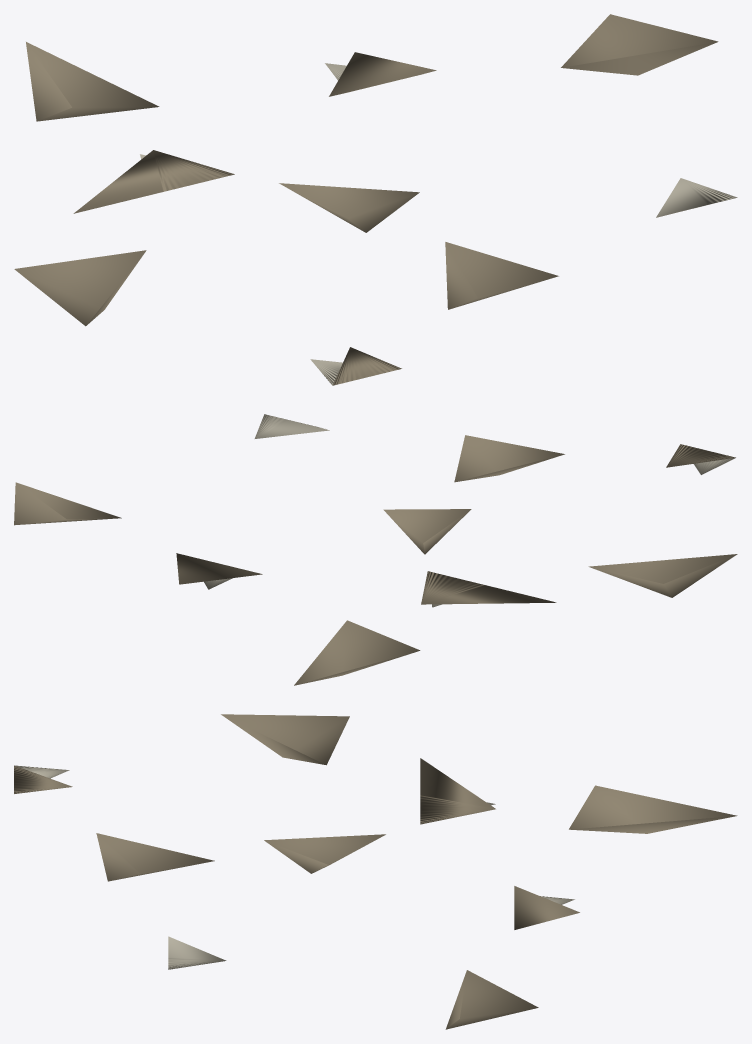
The model's file is brachiopod-bed.glb.
The picture shows the model from 3 angles, top to bottom: view 1: azimuth 30°, elevation 25°; view 2: azimuth 150°, elevation 25°; view 3: azimuth 270°, elevation 25°; orthographic projection. The views are drawn at different scales.
Parts seen in each view (by area): view 1: brachiopod-bed; view 2: brachiopod-bed; view 3: brachiopod-bed.
Part boxes in pixels (x1,y1,x2,y2): brachiopod-bed: (14, 14, 737, 385); brachiopod-bed: (14, 414, 737, 685); brachiopod-bed: (14, 714, 737, 1029).
Bounding box in the file's own units: 3.66 × 0.115 × 3.55.
